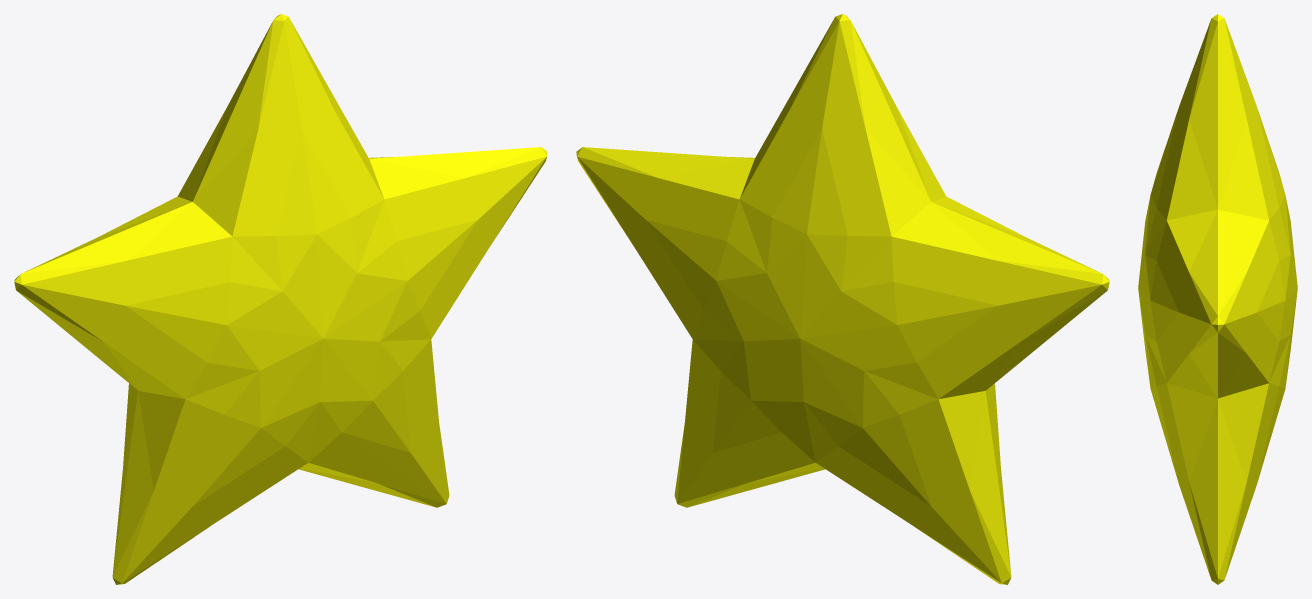
Rendered from estrella.fbx.
The picture shows the model from 3 angles, left to right: view 1: azimuth 30°, elevation 25°; view 2: azimuth 150°, elevation 25°; view 3: azimuth 270°, elevation 25°; orthographic projection. The views are drawn at different scales.
Visible parts, largest first — view 1: skp2FAA1; view 2: skp2FAA1; view 3: skp2FAA1.
Part boxes in pixels (left/top/right/bottom): skp2FAA1: left=14, top=14, right=547, bottom=584; skp2FAA1: left=576, top=14, right=1109, bottom=584; skp2FAA1: left=1138, top=14, right=1297, bottom=584.
Size of the model in its own units: 20.49 by 19.53 by 5.69.
